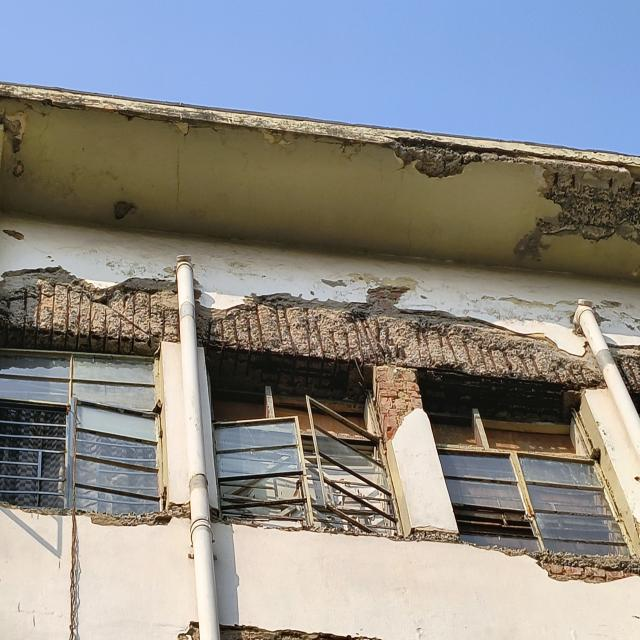Crack: (538, 152, 640, 168), (113, 108, 172, 126), (39, 99, 86, 116), (312, 137, 357, 151), (189, 122, 227, 134)
Paint Peeling: (480, 295, 577, 322), (591, 299, 640, 336), (349, 272, 418, 292), (263, 131, 293, 147), (173, 121, 189, 136), (322, 280, 345, 286)
Scaling: (220, 625, 379, 640), (88, 506, 190, 526), (0, 111, 28, 177), (178, 621, 199, 640), (3, 228, 24, 239)
Spalling: (196, 300, 604, 424), (390, 141, 640, 245), (0, 269, 180, 356), (611, 346, 640, 414)
exposed brickwork: (485, 547, 640, 582), (372, 365, 423, 441), (366, 285, 410, 314)
pollution -moisture induced blackening: (0, 80, 639, 161)
